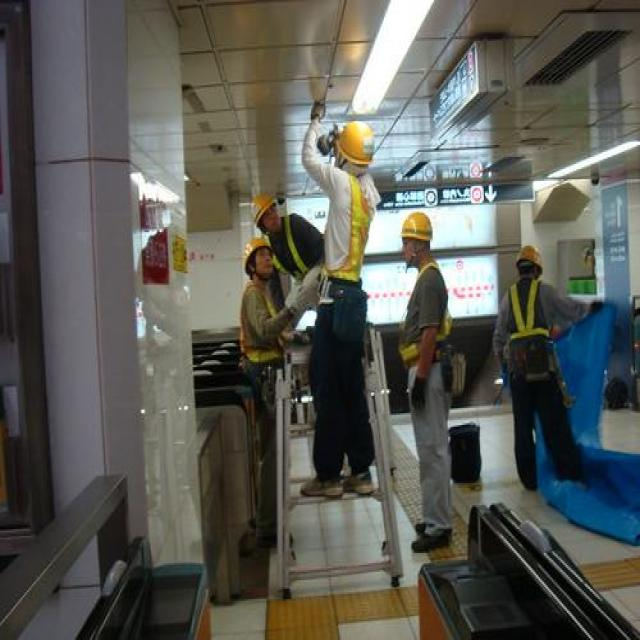Reflective-Jacket: (316, 172, 383, 300), (392, 256, 462, 377), (225, 276, 293, 384), (499, 276, 561, 382), (265, 208, 323, 288)
Safety-Helmet: (328, 113, 385, 179), (392, 203, 442, 254), (232, 229, 279, 278), (244, 184, 286, 229), (510, 237, 549, 278)
